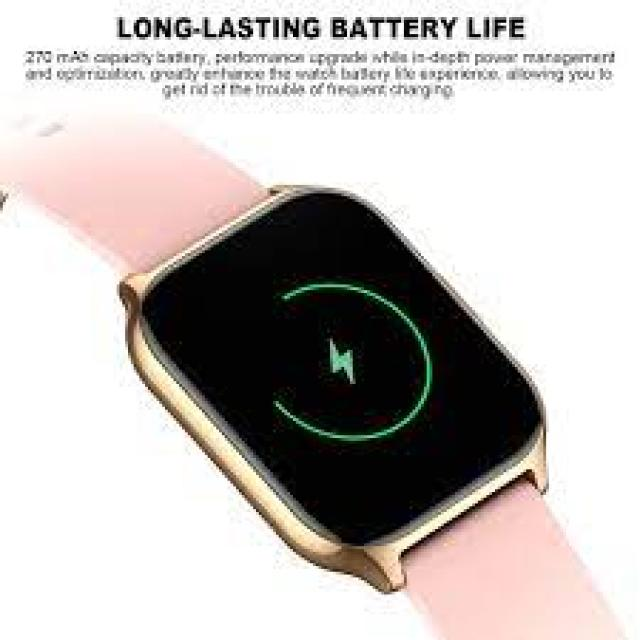objects: (119, 185, 546, 595)
